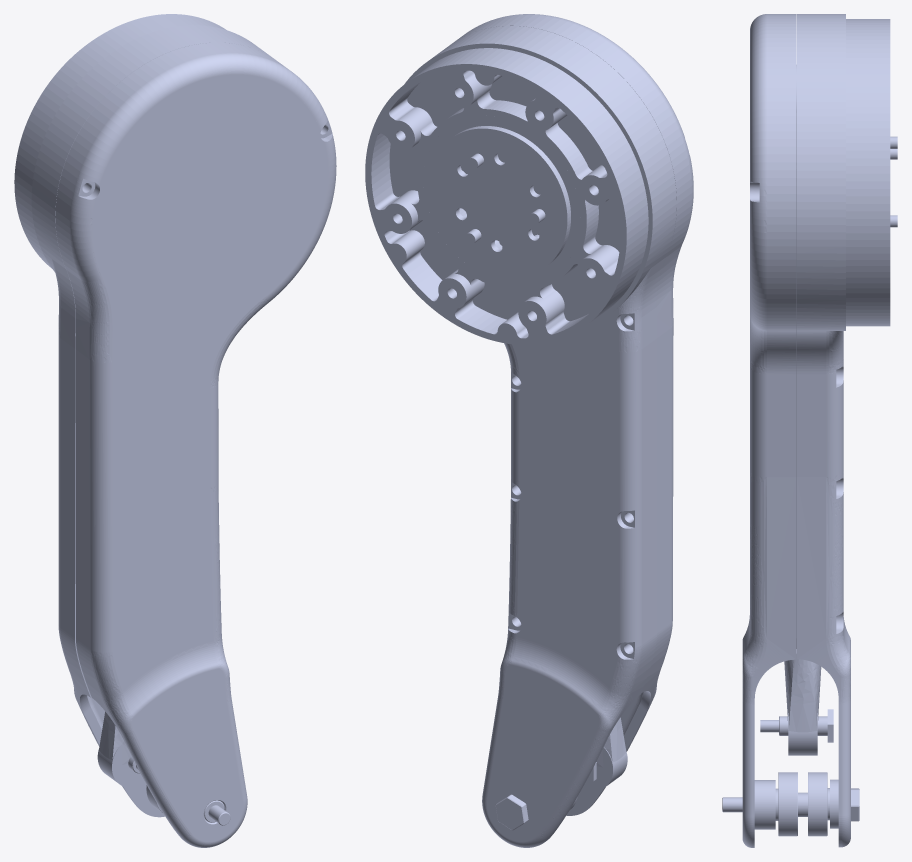
The model's file is thigh_mirror.dae.
The picture shows the model from 3 angles, left to right: view 1: azimuth 30°, elevation 25°; view 2: azimuth 150°, elevation 25°; view 3: azimuth 270°, elevation 25°; orthographic projection. The views are drawn at different scales.
Visible parts, largest first — view 1: node_8491064b_b0bc_48b8_9568_e5bb305f8bcc_mesh0, node_8491064b_b0bc_48b8_9568_e5bb305f8bcc_mesh1; view 2: node_8491064b_b0bc_48b8_9568_e5bb305f8bcc_mesh0, node_8491064b_b0bc_48b8_9568_e5bb305f8bcc_mesh1; view 3: node_8491064b_b0bc_48b8_9568_e5bb305f8bcc_mesh0, node_8491064b_b0bc_48b8_9568_e5bb305f8bcc_mesh1.
Boxes of the visible parts, x1,y1,x2,y2 form: node_8491064b_b0bc_48b8_9568_e5bb305f8bcc_mesh0: (14, 14, 336, 847); node_8491064b_b0bc_48b8_9568_e5bb305f8bcc_mesh1: (26, 42, 332, 839); node_8491064b_b0bc_48b8_9568_e5bb305f8bcc_mesh0: (375, 14, 693, 847); node_8491064b_b0bc_48b8_9568_e5bb305f8bcc_mesh1: (365, 15, 693, 839); node_8491064b_b0bc_48b8_9568_e5bb305f8bcc_mesh0: (722, 14, 897, 847); node_8491064b_b0bc_48b8_9568_e5bb305f8bcc_mesh1: (722, 14, 897, 847).
Bounding box in the file's own units: 129 × 71.3 × 366.
